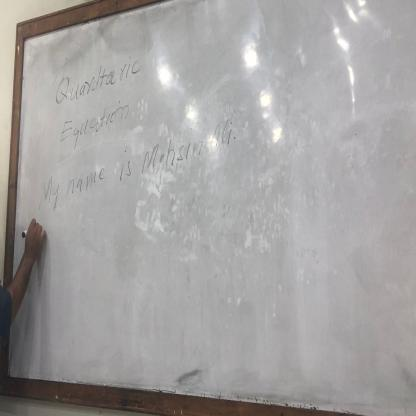Handwritten text: (17, 102, 256, 231), (42, 85, 145, 159), (40, 41, 148, 109)
Whiteboard: (7, 0, 416, 416)
